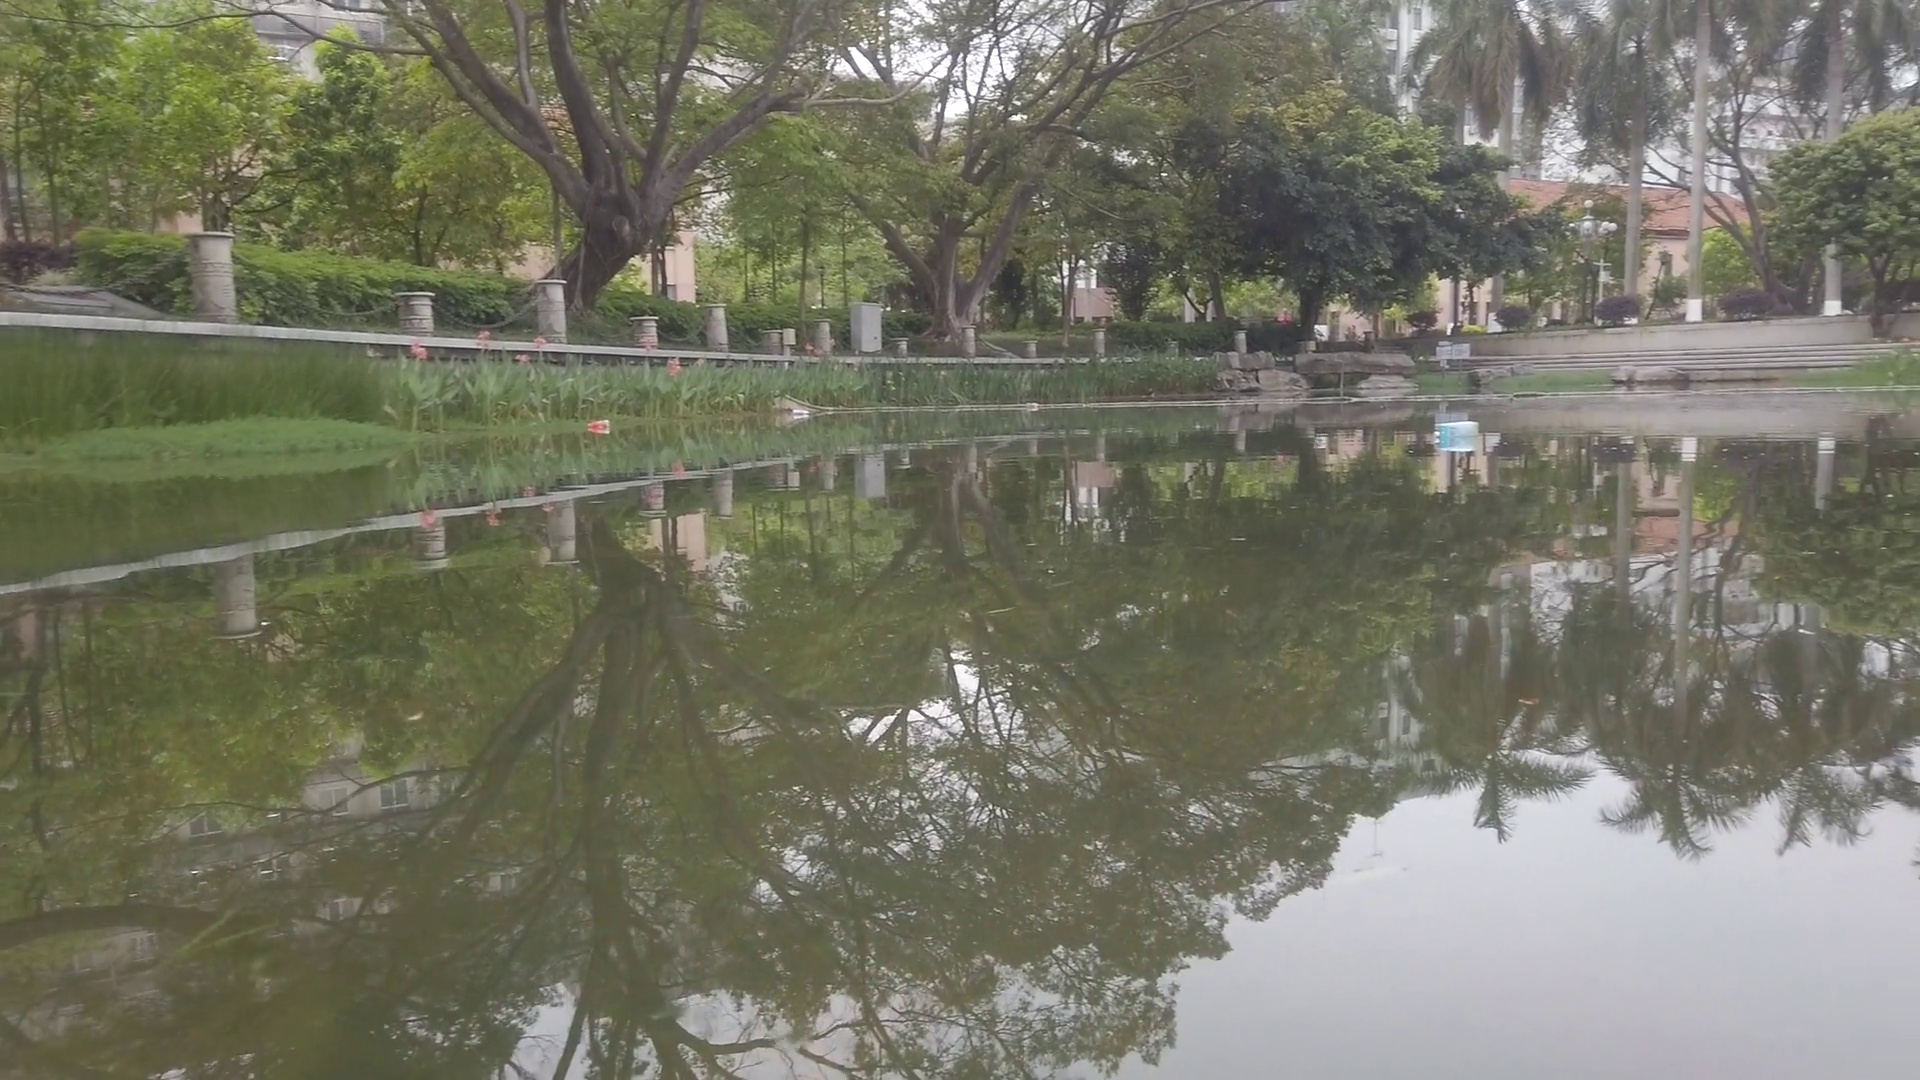bottle: (588, 419, 611, 431), (793, 407, 808, 418), (1027, 402, 1040, 411)
carton: (1435, 423, 1478, 444)
